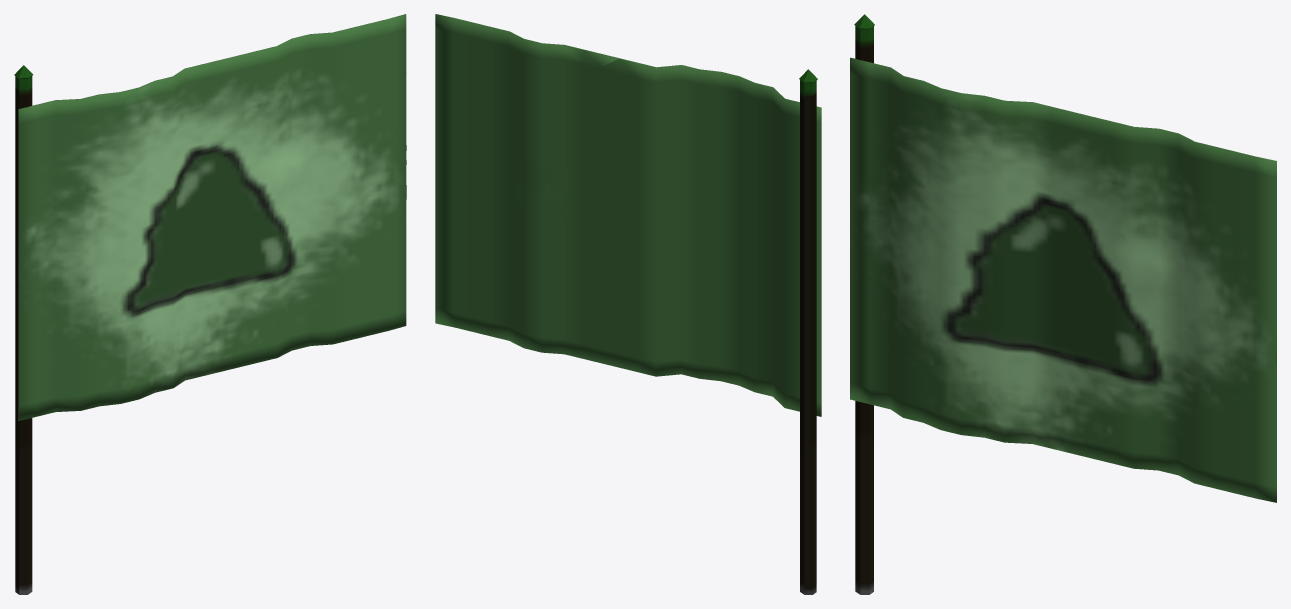
File: bandeiraVerde.fbx
The picture shows the model from 3 angles, left to right: view 1: azimuth 30°, elevation 25°; view 2: azimuth 150°, elevation 25°; view 3: azimuth 330°, elevation 25°; orthographic projection. The views are drawn at different scales.
Parts seen in each view (by area): view 1: bandeiraverde; view 2: bandeiraverde; view 3: bandeiraverde.
Part boxes in pixels (x1,y1,x2,y2): bandeiraverde: (14,14,406,594); bandeiraverde: (435,14,821,594); bandeiraverde: (850,14,1276,594).
Size of the model in its own units: 1.58 by 2.04 by 0.1294.
Materials: 1 (1 with a texture image).
